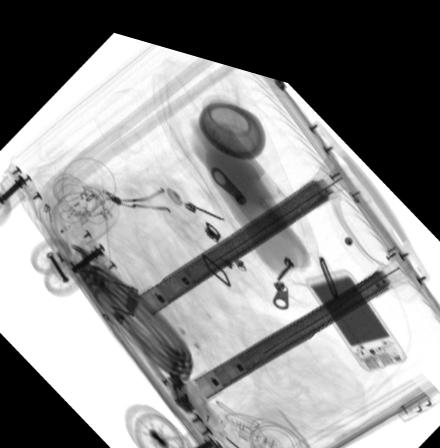Powerbank: (306, 248, 406, 350)
